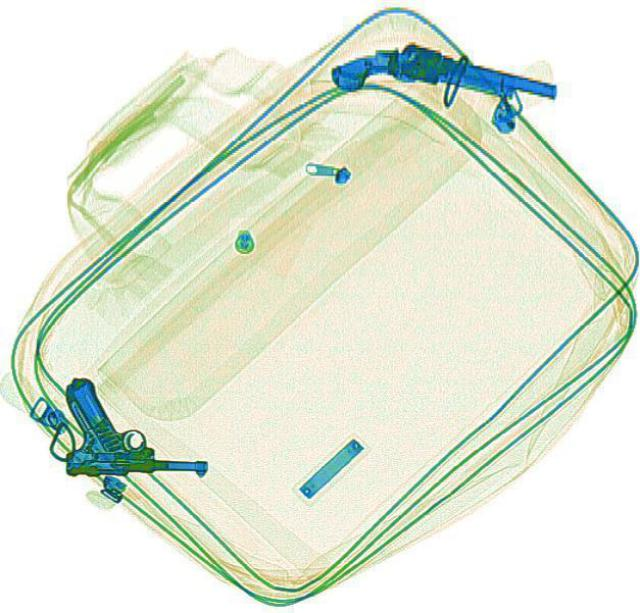Gun: (326, 26, 556, 134), (64, 375, 206, 474)
